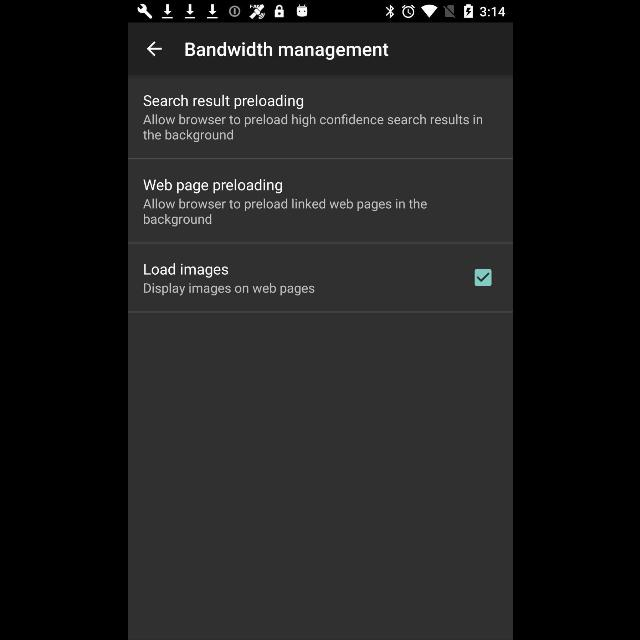checkbox: (474, 270, 491, 286)
icon: (146, 42, 162, 56)
text: (142, 114, 482, 142), (142, 199, 426, 227), (185, 42, 388, 60), (143, 94, 303, 110), (144, 282, 314, 296), (142, 178, 282, 194), (144, 264, 228, 278)
toolbar: (128, 24, 512, 74)
uppertaskbar: (128, 1, 512, 23)
